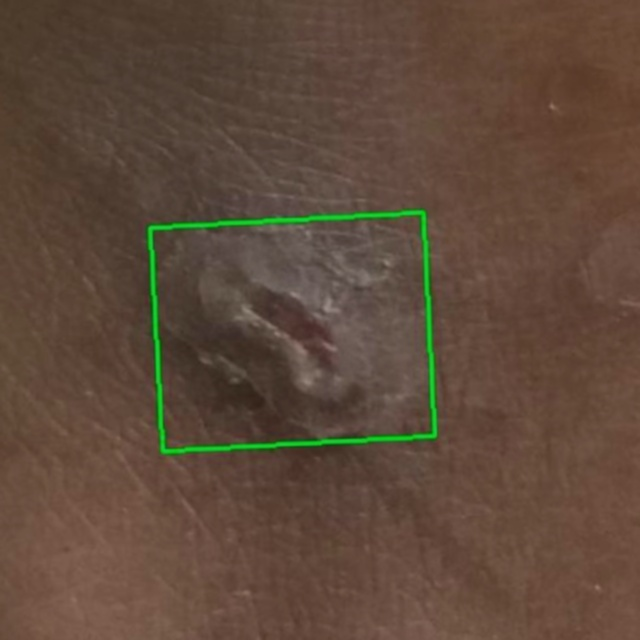Eczema: (149, 213, 434, 451)
